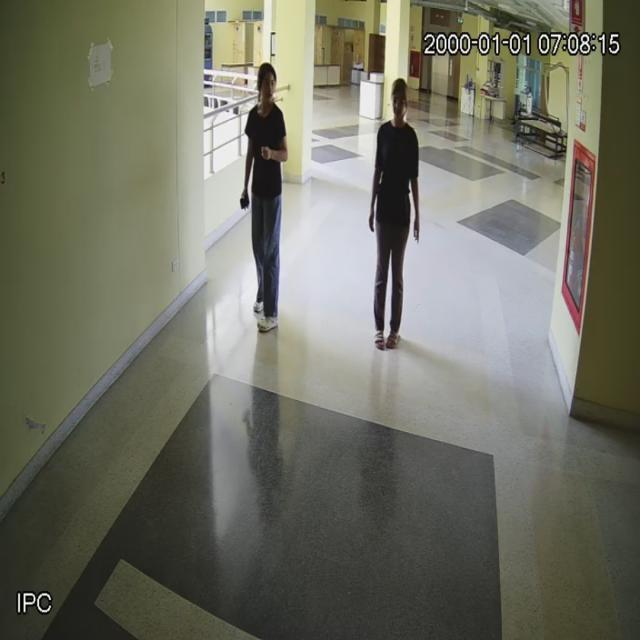normal: (240, 50, 286, 341), (370, 71, 416, 359)
